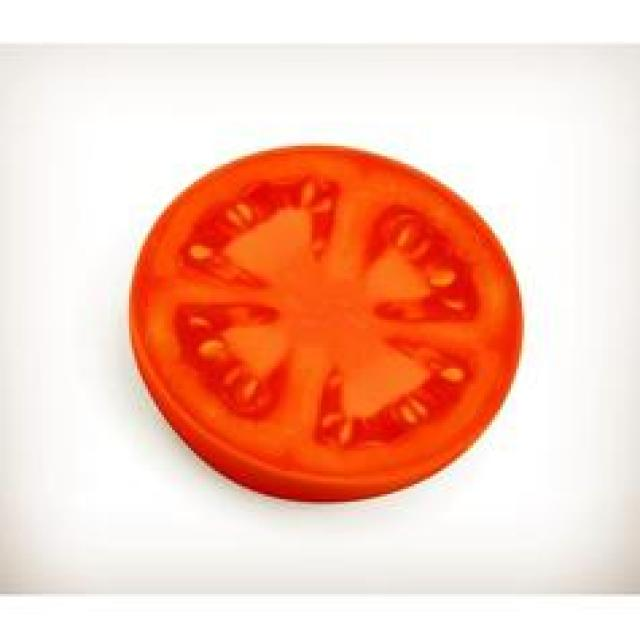Tomato: (123, 137, 519, 513)
